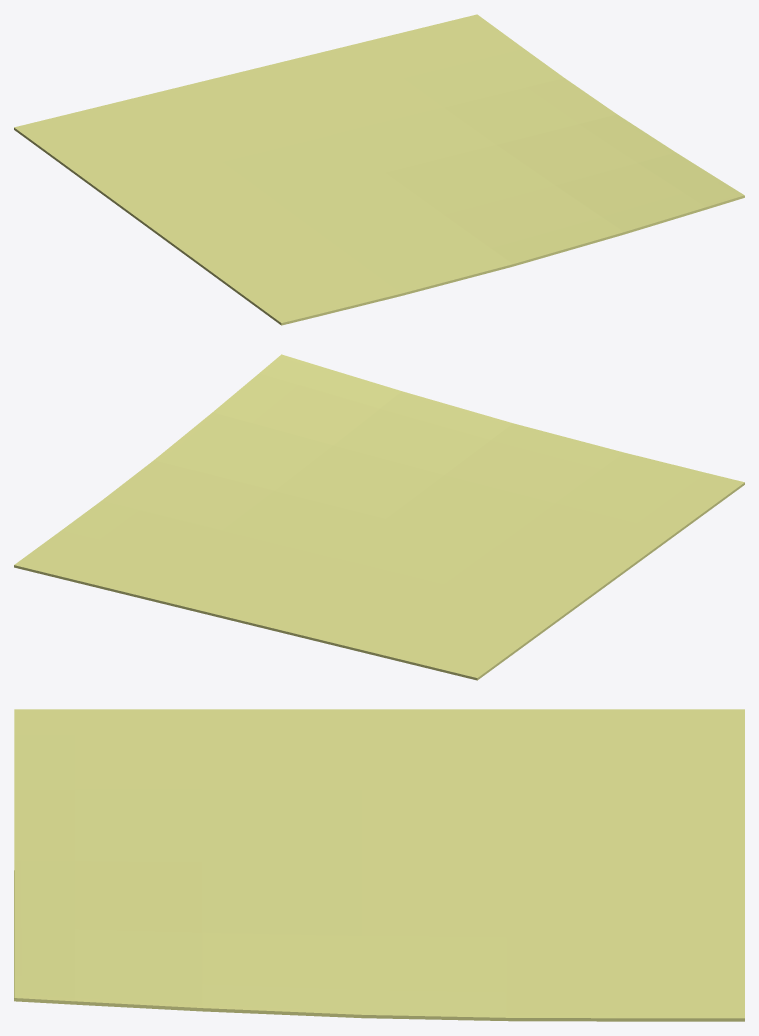
File: postitnote.fbx
3 views of the same model, one above another, from view 1: azimuth 30°, elevation 25°; view 2: azimuth 150°, elevation 25°; view 3: azimuth 270°, elevation 25° (orthographic). The views are drawn at different scales.
Visible parts, largest first — view 1: poostit; view 2: poostit; view 3: poostit.
Part boxes in pixels (x1,y1,x2,y2): poostit: (14,14,744,325); poostit: (14,354,744,680); poostit: (14,709,744,1021).
Bounding box in the file's own units: 200 × 7.12 × 200.
